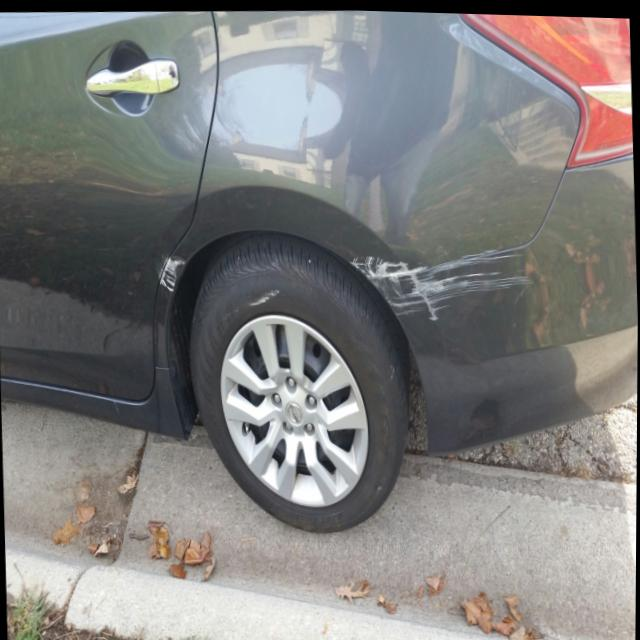Scratch: (356, 239, 534, 311), (154, 251, 185, 293)
